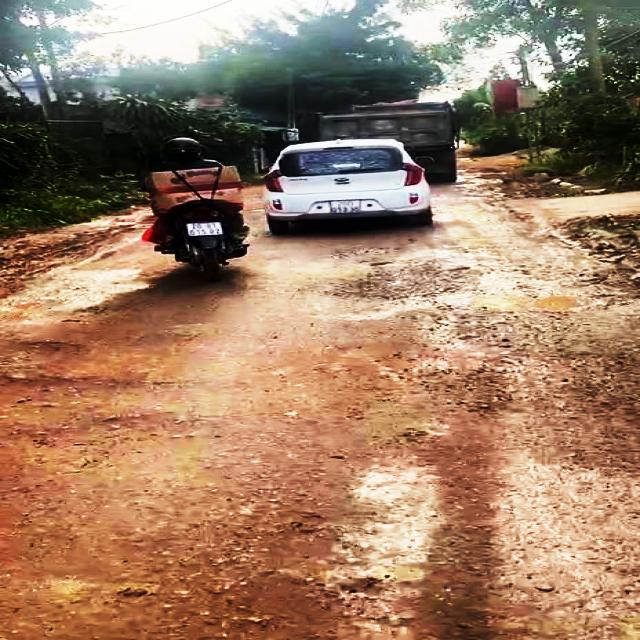pothole: (0, 371, 159, 420), (408, 286, 594, 317), (0, 336, 88, 369)
